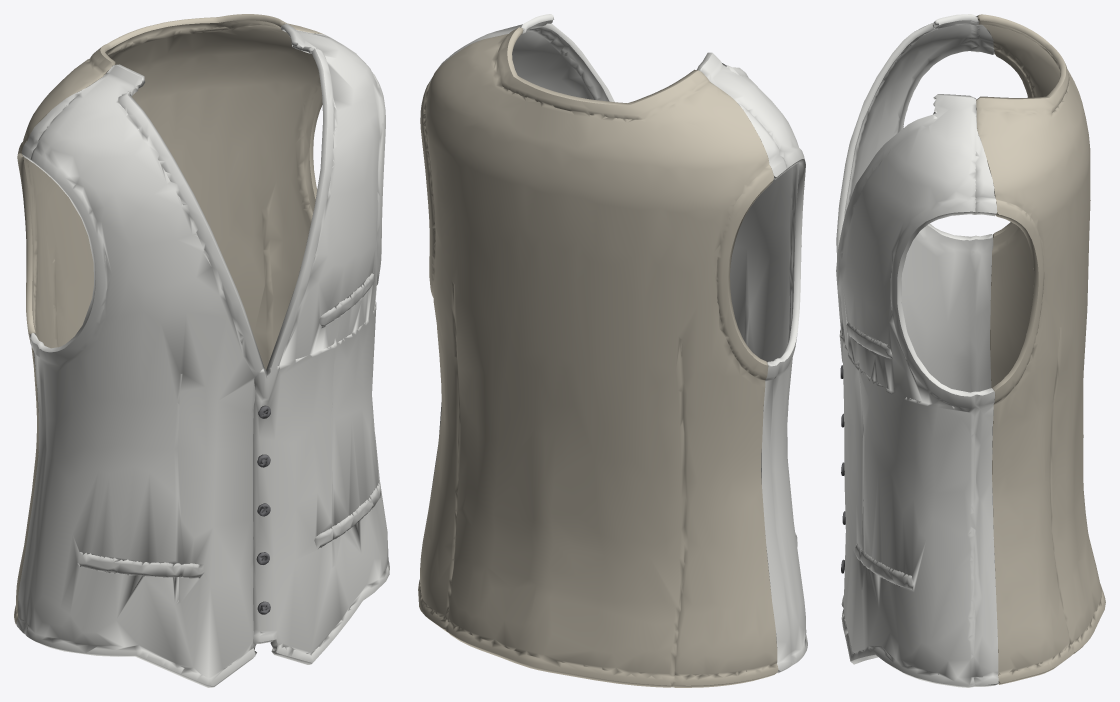
The model's file is 09_chaleco_vestir.glb.
3 views of the same model, side by side, from view 1: azimuth 30°, elevation 25°; view 2: azimuth 150°, elevation 25°; view 3: azimuth 270°, elevation 25° (orthographic). The views are drawn at different scales.
Parts seen in each view (by area): view 1: Chaleco de vestir; view 2: Chaleco de vestir; view 3: Chaleco de vestir.
Boxes of the visible parts, box(x1,y1,x2,y2) form: Chaleco de vestir: box(14, 14, 389, 687); Chaleco de vestir: box(418, 14, 807, 687); Chaleco de vestir: box(836, 14, 1105, 687).
Size of the model in its own units: 0.3963 by 0.6312 by 0.2638.
